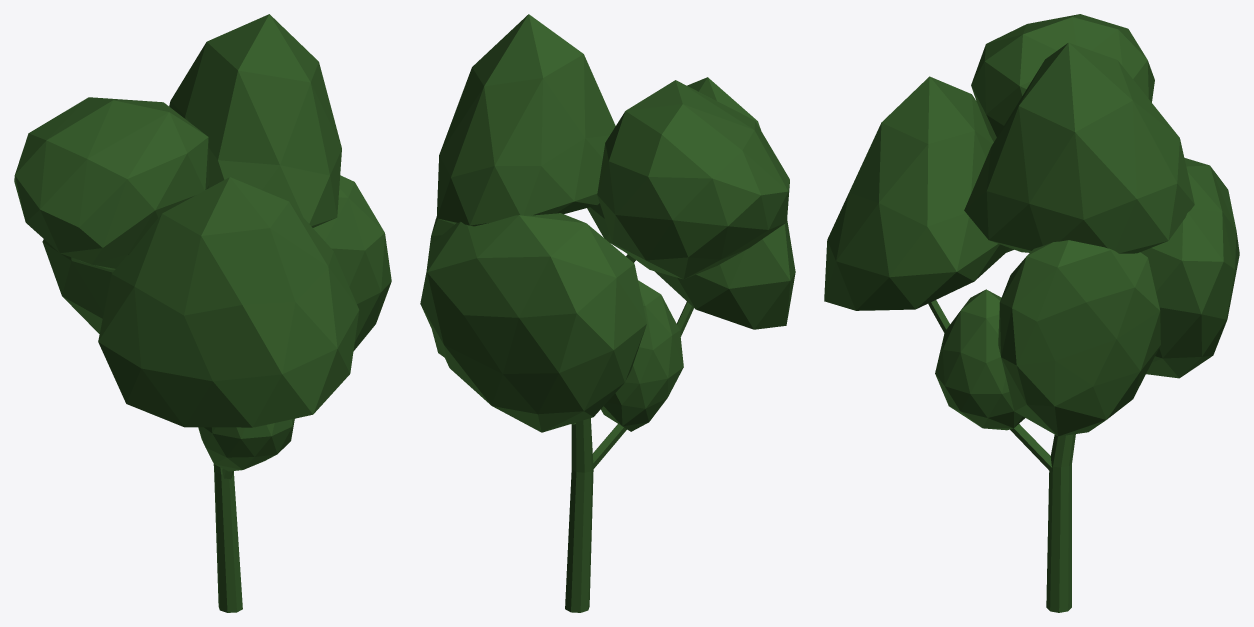
The model's file is Birch2.FBX.
3 views of the same model, side by side, from view 1: azimuth 30°, elevation 25°; view 2: azimuth 150°, elevation 25°; view 3: azimuth 270°, elevation 25° (orthographic).
Parts seen in each view (by area): view 1: Birch2; view 2: Birch2; view 3: Birch2.
Boxes of the visible parts, box(x1,y1,x2,y2) form: Birch2: box(14, 14, 391, 612); Birch2: box(420, 14, 795, 612); Birch2: box(824, 14, 1239, 612).
Size of what is drawn, in the model's own units: 409 by 428 by 666.
